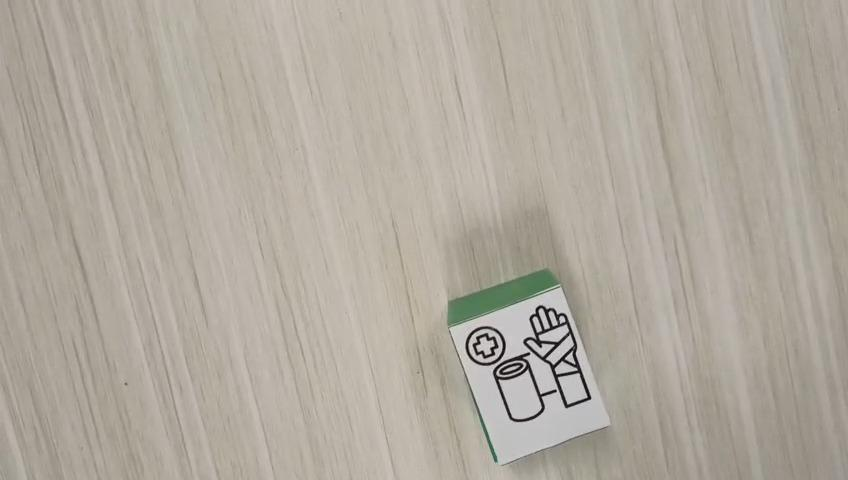Bandages: (446, 267, 611, 465)
